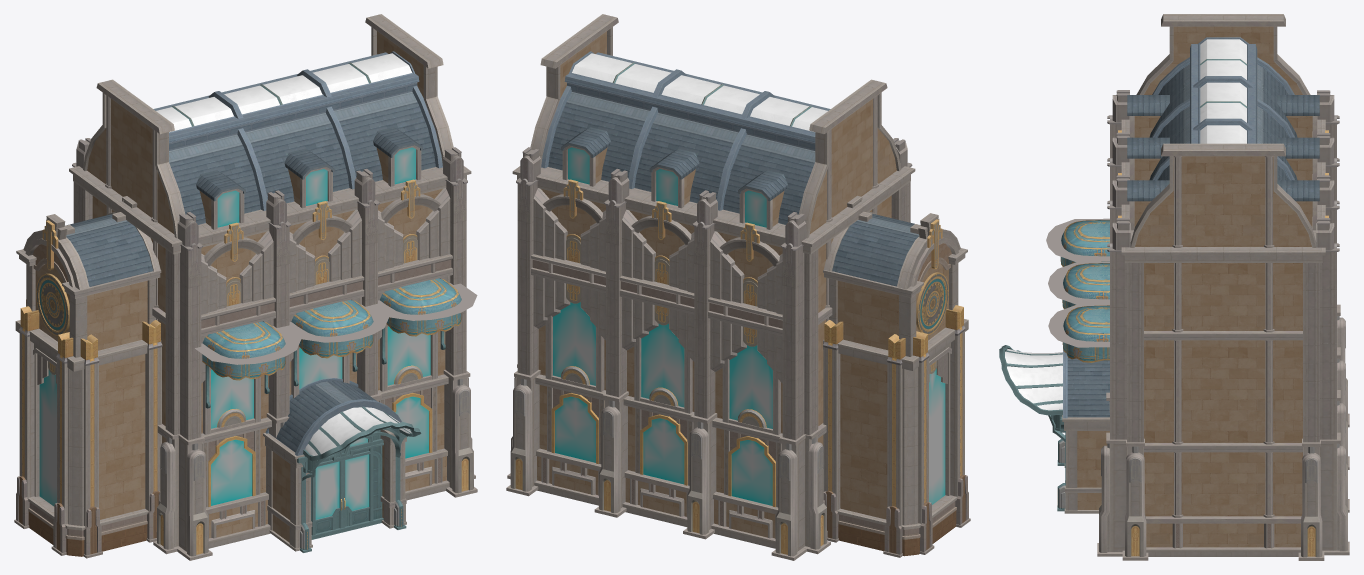
Rendered from Homeworld_Exterior_Fd_Build_ZhuchengJz_07_Lod0.fbx.
3 renders of one model, left to right at view 1: azimuth 30°, elevation 25°; view 2: azimuth 150°, elevation 25°; view 3: azimuth 270°, elevation 25°, orthographic.
Parts seen in each view (by area): view 1: Homeworld_Exterior_Fd_Build_ZhuchengJz_07_Lod0, Area_Fd_Prop_FDC_Pengzi_01_Ocl (×3); view 2: Homeworld_Exterior_Fd_Build_ZhuchengJz_07_Lod0; view 3: Homeworld_Exterior_Fd_Build_ZhuchengJz_07_Lod0, Area_Fd_Prop_FDC_Pengzi_01_Ocl (×3).
Boxes of the visible parts, x1,y1,x2,y2 form: Homeworld_Exterior_Fd_Build_ZhuchengJz_07_Lod0: [14, 14, 477, 560]; Area_Fd_Prop_FDC_Pengzi_01_Ocl (×3): [195, 283, 477, 364]; Homeworld_Exterior_Fd_Build_ZhuchengJz_07_Lod0: [506, 14, 970, 560]; Homeworld_Exterior_Fd_Build_ZhuchengJz_07_Lod0: [999, 14, 1349, 560]; Area_Fd_Prop_FDC_Pengzi_01_Ocl (×3): [1046, 218, 1109, 347].
Size of what is drawn, in the model's own units: 22.01 by 22.2 by 17.36.
